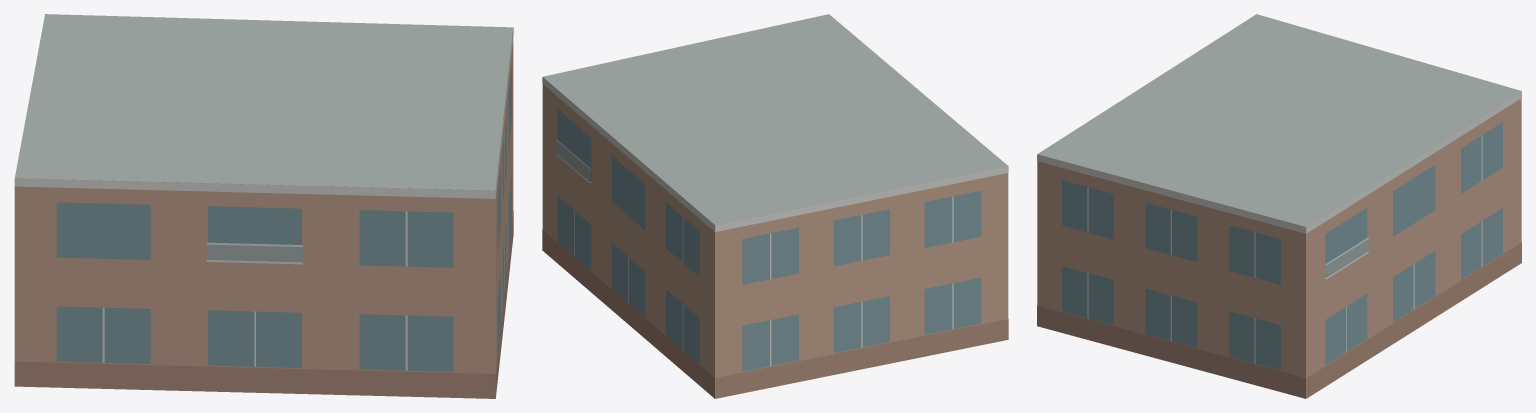
The model's file is survey-upis-32891185.glb.
The picture shows the model from 3 angles, left to right: view 1: azimuth 30°, elevation 25°; view 2: azimuth 150°, elevation 25°; view 3: azimuth 270°, elevation 25°; orthographic projection. The views are drawn at different scales.
Parts seen in each view (by area): view 1: survey-upis-32891185.tmp; view 2: survey-upis-32891185.tmp; view 3: survey-upis-32891185.tmp.
Boxes of the visible parts, x1,y1,x2,y2 form: survey-upis-32891185.tmp: (14, 14, 513, 398); survey-upis-32891185.tmp: (542, 14, 1008, 398); survey-upis-32891185.tmp: (1037, 14, 1521, 398).
Bounding box in the file's own units: 16.21 × 6.1 × 15.59.
